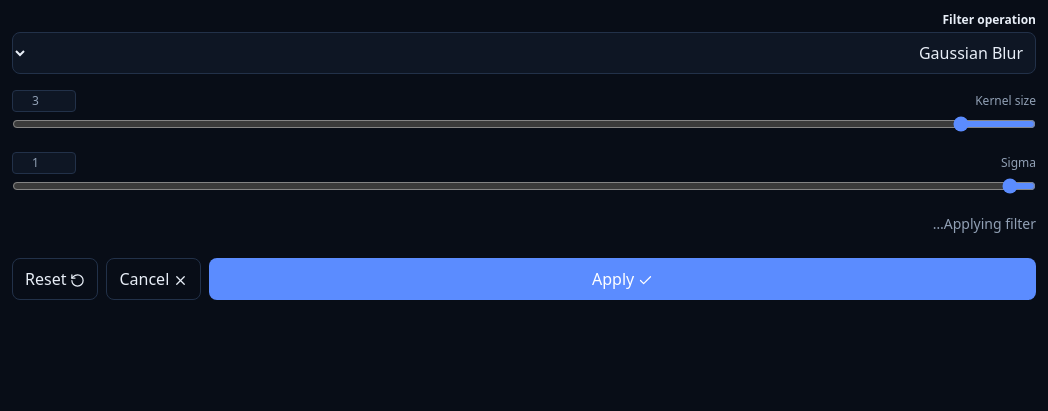
Test case: FilterPanel › renders operation-specific controls and supports switching operations
Check: the slider named "Kernel size" is shown, box [12,116,1036,132]
Check: the slider named "Sigma" is shown, box [12,178,1036,194]
Select "Canny" in the dropdown named "Filter operation" at (524, 53), box [12,32,1036,74]
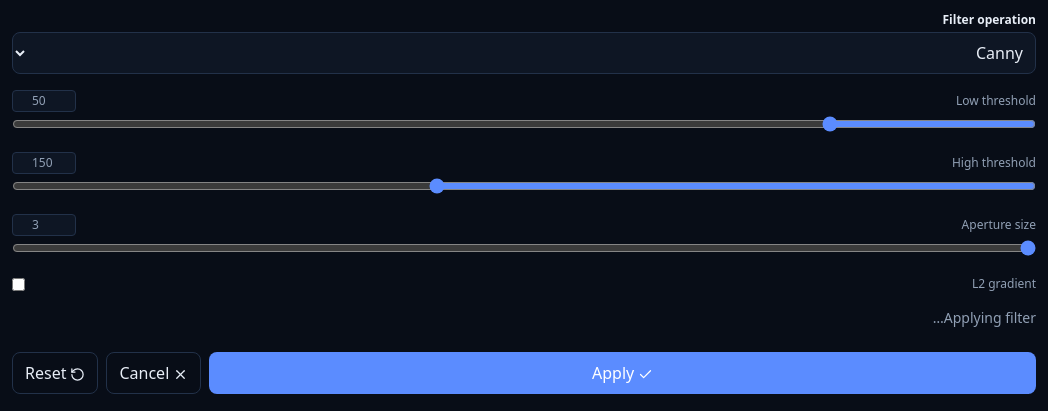
Check: the slider named "Low threshold" is shown, box [12,116,1036,132]
Check: the slider named "High threshold" is shown, box [12,178,1036,194]
Check: the checkbox labelled "L2 gradient" is shown, box [12,278,25,290]
